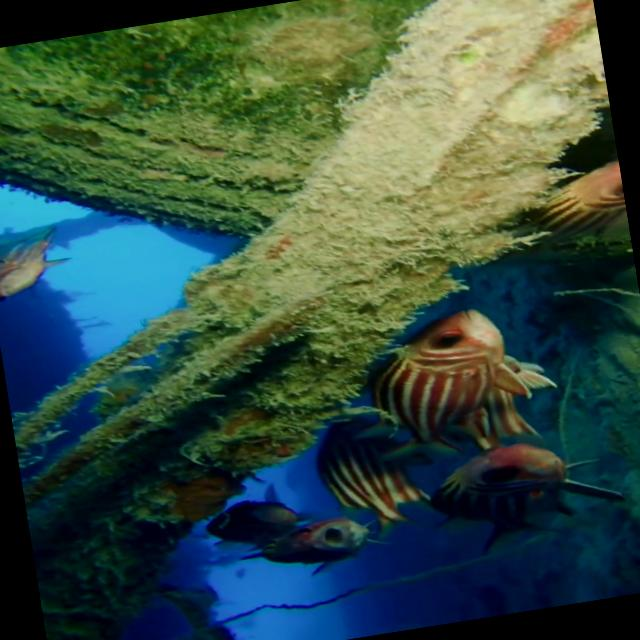Asker Baligi: (356, 300, 540, 466), (418, 422, 606, 560), (234, 502, 407, 572), (311, 413, 411, 530)
